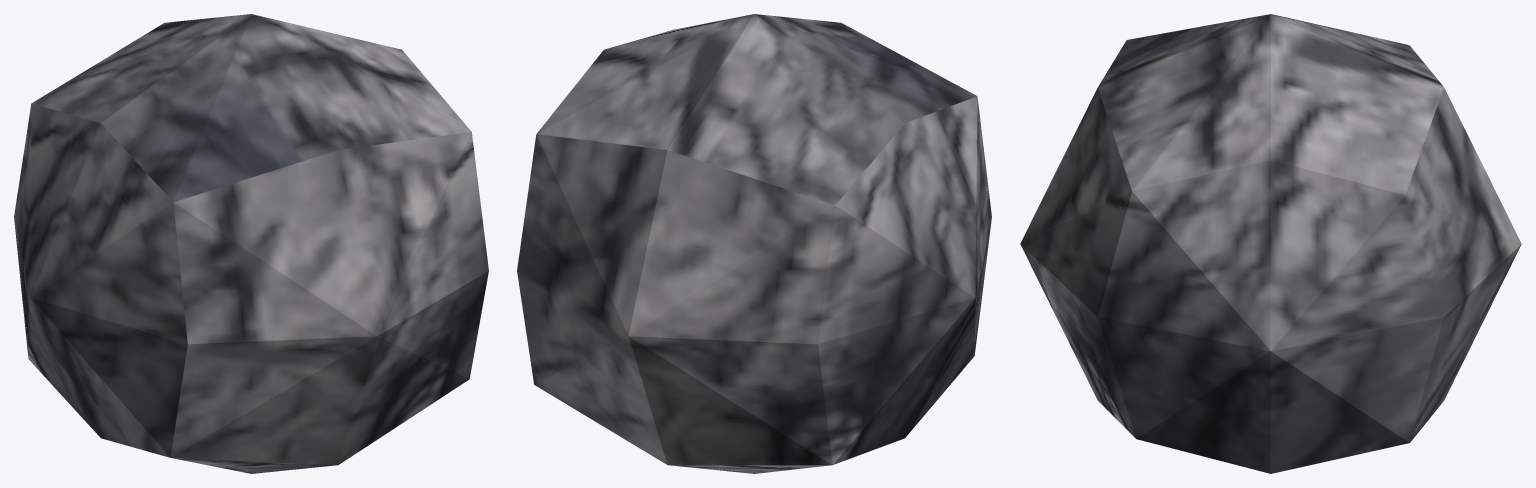
Rendered from Bulishnik.fbx.
The picture shows the model from 3 angles, left to right: view 1: azimuth 30°, elevation 25°; view 2: azimuth 150°, elevation 25°; view 3: azimuth 270°, elevation 25°; orthographic projection.
Visible parts, largest first — view 1: Cube; view 2: Cube; view 3: Cube.
Part boxes in pixels (x1=…): Cube: x1=14, y1=14, x2=488, y2=473; Cube: x1=517, y1=14, x2=991, y2=473; Cube: x1=1020, y1=14, x2=1521, y2=473.
Bounding box in the file's own units: 694 × 691 × 686.
Materials: 1 (1 with a texture image).
